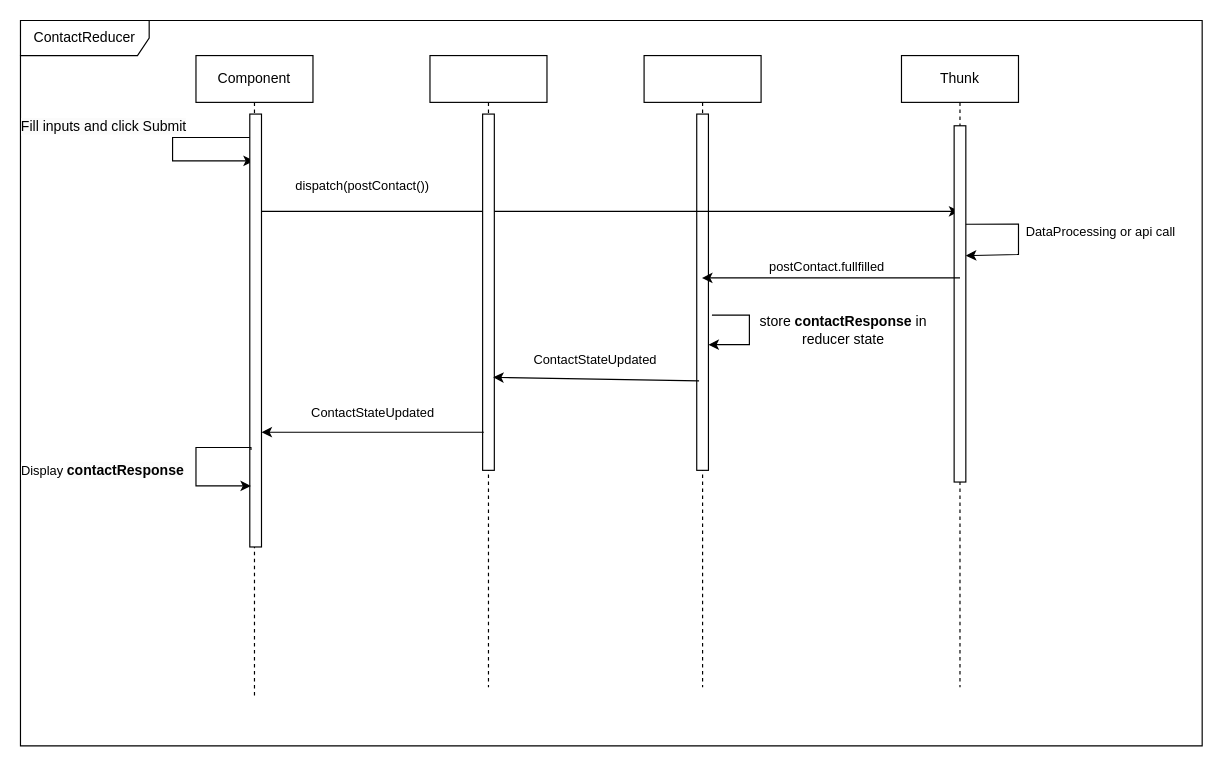
The diagram is 1223 pixels wide and 766 high, and some of its shapes have lost their labels. Here are the shapes that lost their labels. From the top down, the box of each, then its label:
(429, 54, 547, 687): Store
(643, 54, 761, 687): Slice
